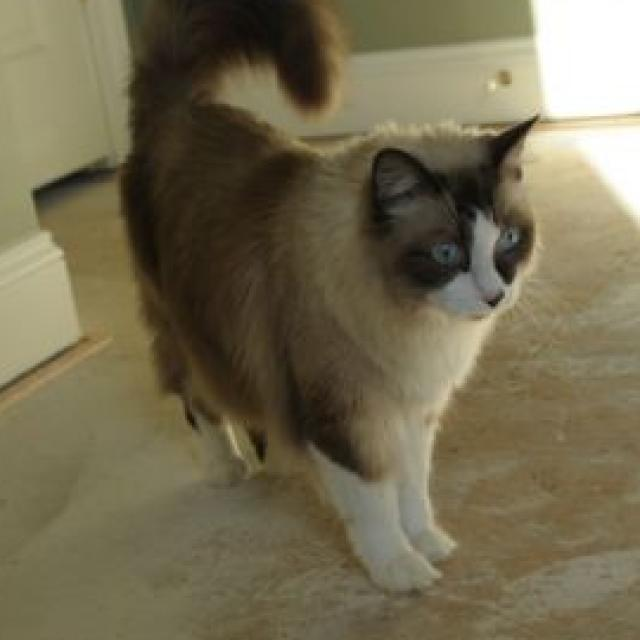Ragdoll: (111, 0, 545, 600)
